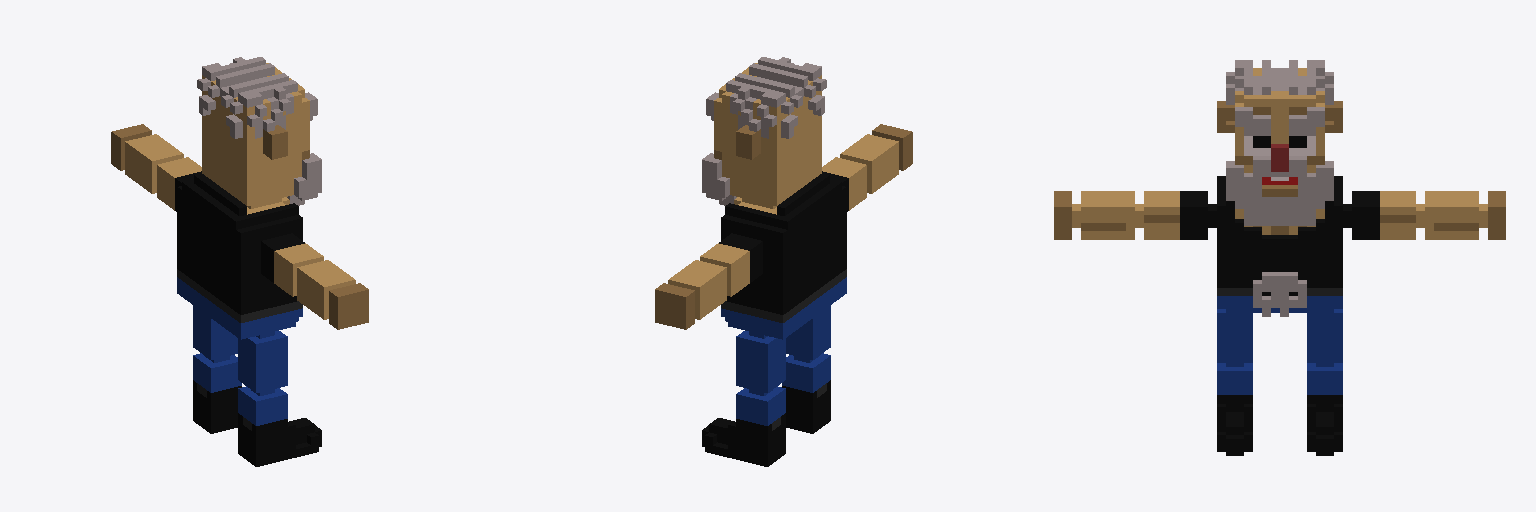
3 renders of one model, left to right at view 1: azimuth 30°, elevation 25°; view 2: azimuth 150°, elevation 25°; view 3: azimuth 270°, elevation 25°, orthographic.
Parts seen in each view (by area): view 1: old_man; view 2: old_man; view 3: old_man.
Boxes of the visible parts, <box> form: old_man: <box>111,57,368,466</box>; old_man: <box>655,57,912,466</box>; old_man: <box>1054,60,1505,455</box>.
Size of the model in its own units: 12 by 44 by 50.
Materials: 1 (1 with a texture image).